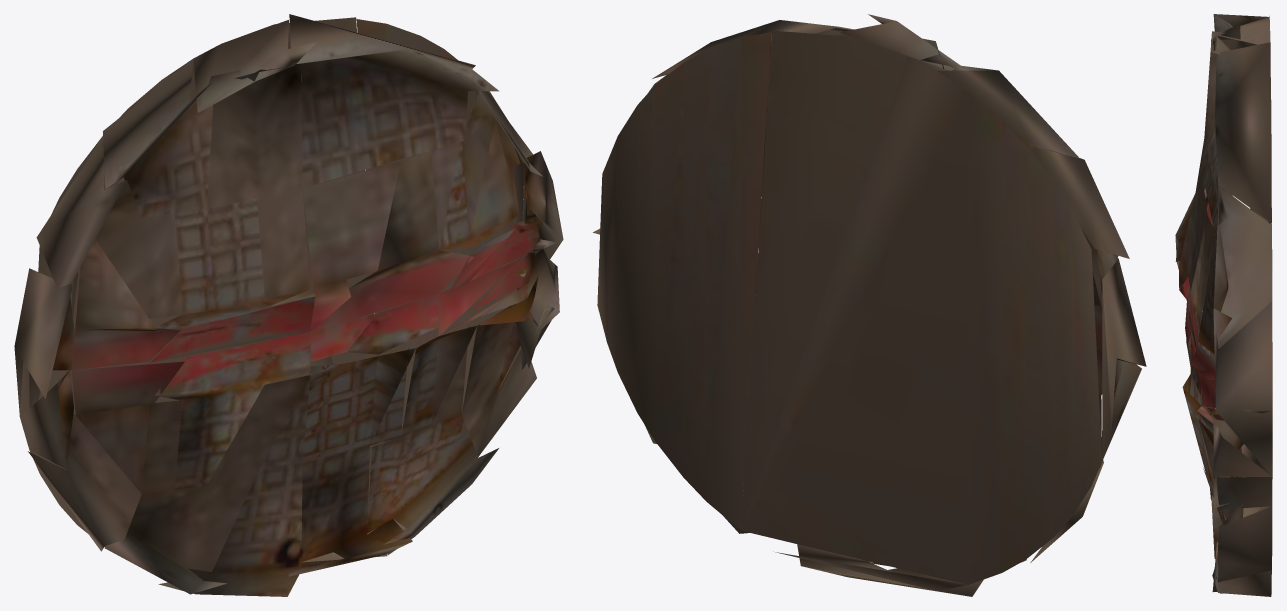
The model's file is m_shield_round_clan_lod1.fbx.
3 renders of one model, left to right at view 1: azimuth 30°, elevation 25°; view 2: azimuth 150°, elevation 25°; view 3: azimuth 270°, elevation 25°, orthographic. The views are drawn at different scales.
Parts seen in each view (by area): view 1: tripo_node_f85c38e7-6864-49ca-bc18-f52de937980b; view 2: tripo_node_f85c38e7-6864-49ca-bc18-f52de937980b; view 3: tripo_node_f85c38e7-6864-49ca-bc18-f52de937980b.
Boxes of the visible parts, x1,y1,x2,y2 form: tripo_node_f85c38e7-6864-49ca-bc18-f52de937980b: (14, 14, 563, 596); tripo_node_f85c38e7-6864-49ca-bc18-f52de937980b: (593, 14, 1146, 596); tripo_node_f85c38e7-6864-49ca-bc18-f52de937980b: (1175, 14, 1272, 596).
Bounding box in the file's own units: 0.7797 × 0.7914 × 0.1311.
